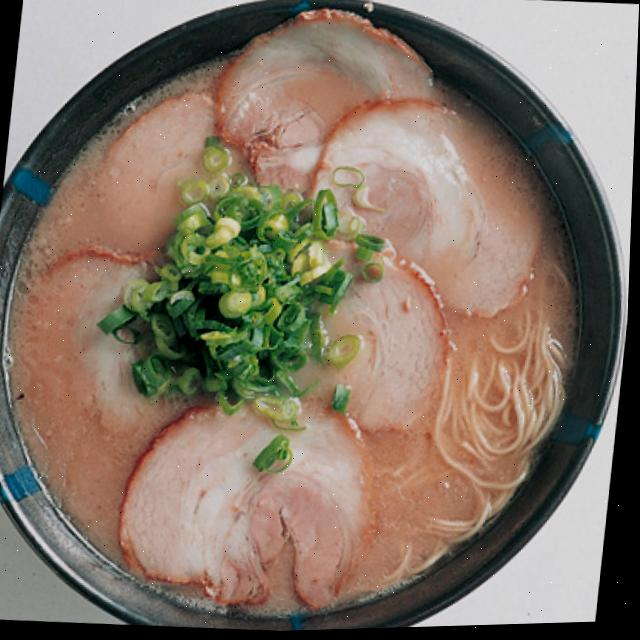面条主食: (0, 10, 611, 640)
